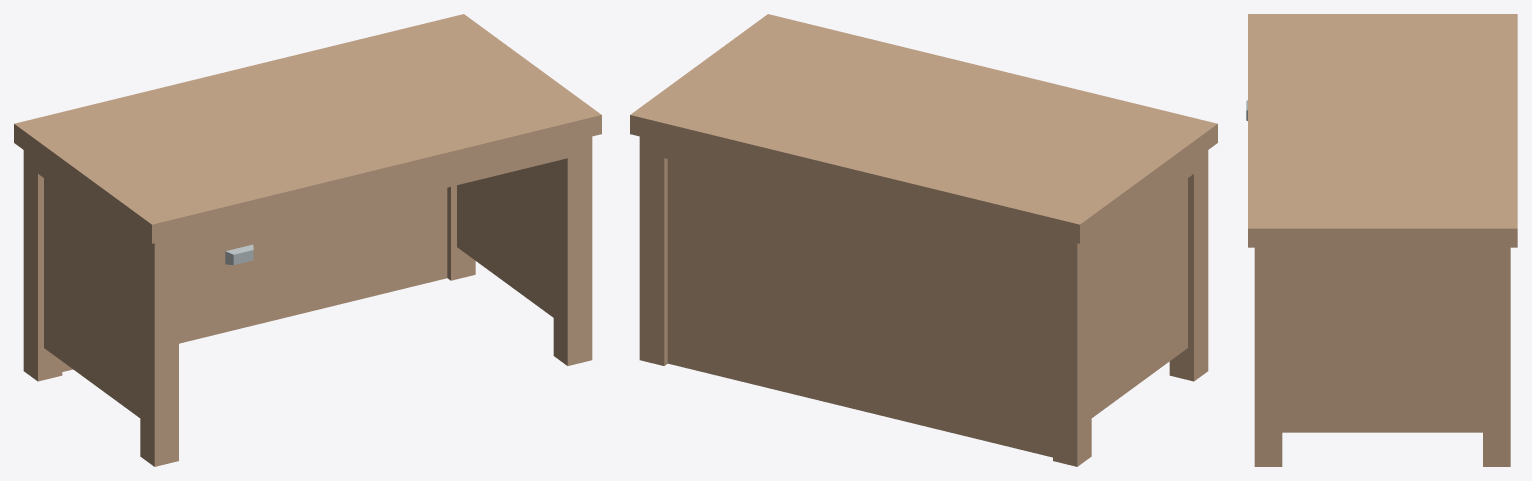
The model's file is desk.glb.
The picture shows the model from 3 angles, left to right: view 1: azimuth 30°, elevation 25°; view 2: azimuth 150°, elevation 25°; view 3: azimuth 270°, elevation 25°; orthographic projection. The views are drawn at different scales.
Parts seen in each view (by area): view 1: desk; view 2: desk; view 3: desk.
Boxes of the visible parts, box(x1,y1,x2,y2) form: desk: box(14, 14, 601, 466); desk: box(630, 14, 1217, 466); desk: box(1246, 14, 1517, 466).
Bounding box in the file's own units: 0.7345 × 0.3844 × 0.3923.
